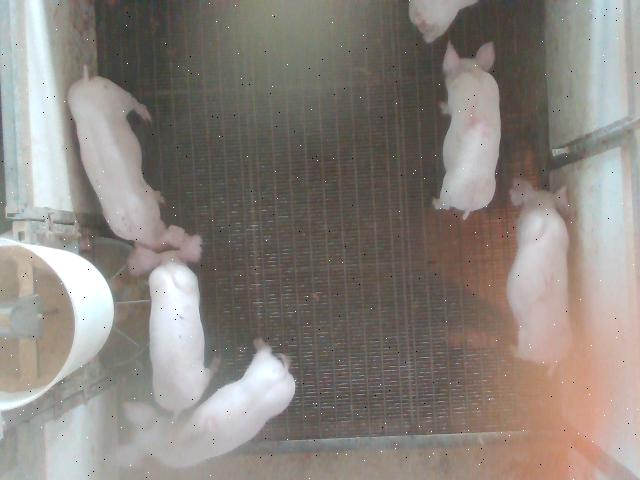pig-3: (118, 340, 295, 468)
pig-4: (434, 42, 501, 218)
